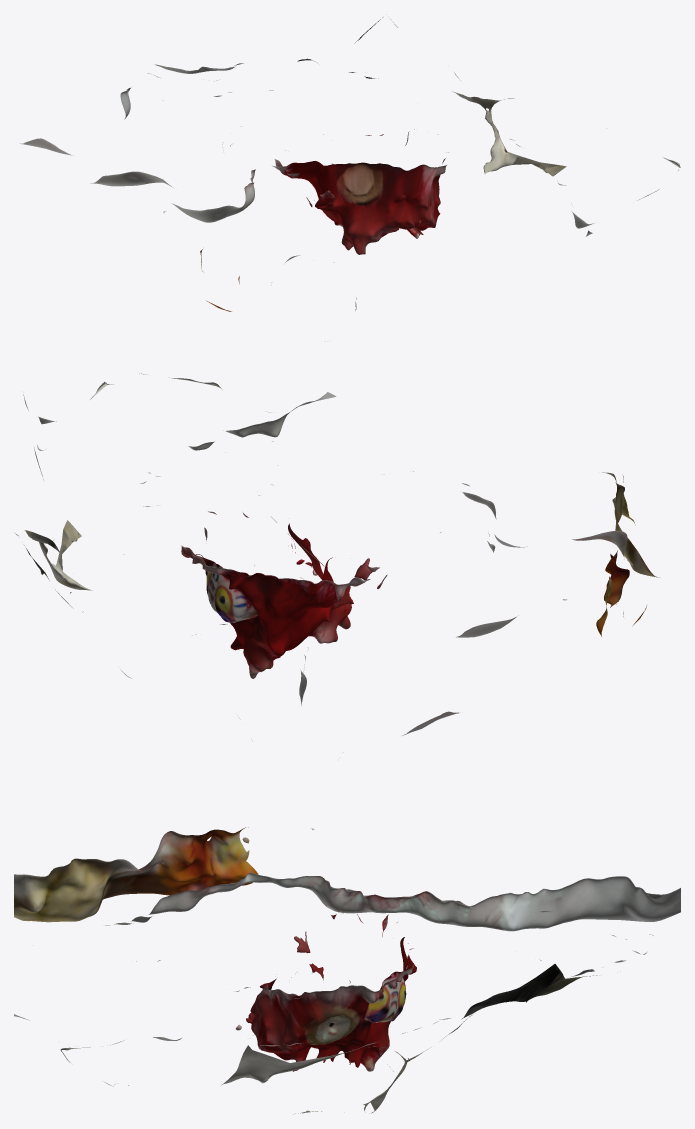
3 renders of one model, top to bottom at view 1: azimuth 30°, elevation 25°; view 2: azimuth 150°, elevation 25°; view 3: azimuth 270°, elevation 25°, orthographic. The views are drawn at different scales.
Size of the model in its own units: 2.84 by 1.08 by 3.01.
Materials: 1 (1 with a texture image).
